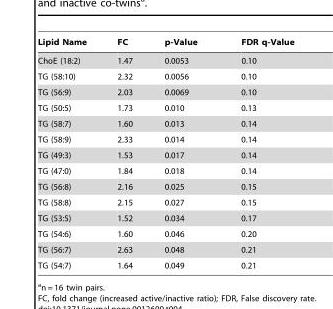table: (37, 37, 293, 269)
table column: (218, 37, 293, 269), (147, 37, 218, 269), (37, 37, 101, 269), (101, 37, 147, 269)
table column header: (37, 37, 293, 51)
table row: (37, 51, 293, 68), (37, 68, 293, 84), (37, 99, 293, 115), (37, 115, 293, 131), (37, 131, 293, 147), (37, 162, 293, 178), (37, 178, 293, 194), (37, 194, 293, 210), (37, 225, 293, 241), (37, 241, 293, 257), (37, 84, 293, 99), (37, 147, 293, 162), (37, 210, 293, 225), (37, 37, 293, 51), (37, 257, 293, 269)
